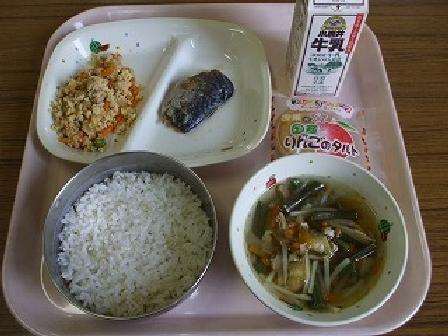Fish: (160, 55, 246, 137)
Milk: (280, 2, 371, 99)
Rice: (48, 160, 222, 318)
Soups: (238, 162, 409, 313)
cereal based cooked food: (45, 53, 145, 147)
